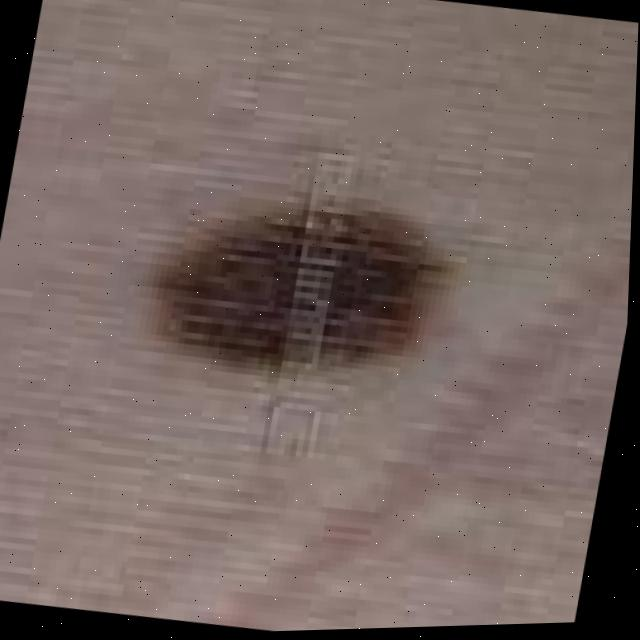Melasma: (169, 199, 460, 360)
